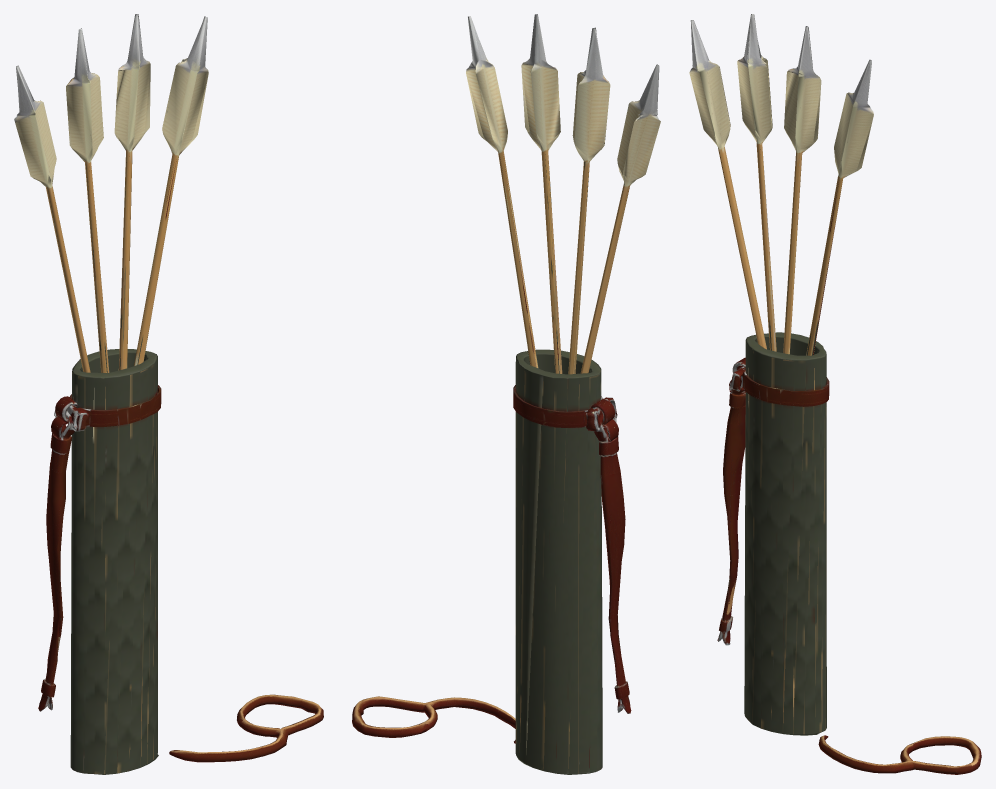
The model's file is serpents-coil-quiver_refine.glb.
The picture shows the model from 3 angles, left to right: view 1: azimuth 30°, elevation 25°; view 2: azimuth 150°, elevation 25°; view 3: azimuth 330°, elevation 25°; orthographic projection. The views are drawn at different scales.
Bounding box in the file's own units: 0.4092 × 0.9507 × 0.1323.
1 material, 1 textured.
